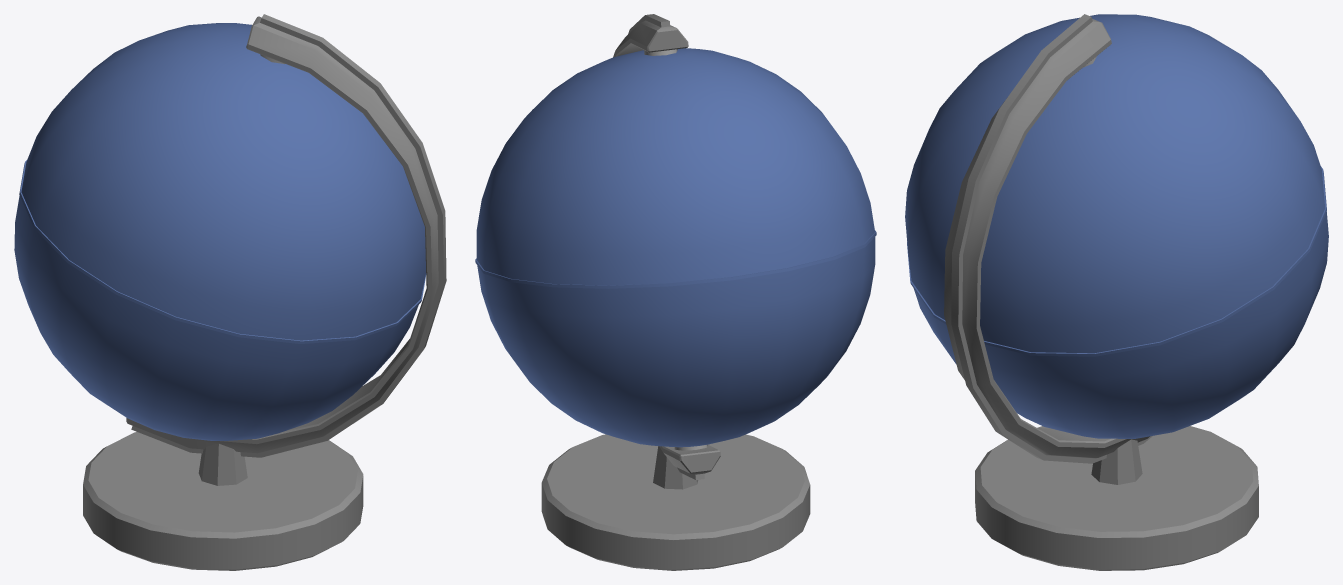
Rendered from geo_globe.fbx.
The picture shows the model from 3 angles, left to right: view 1: azimuth 30°, elevation 25°; view 2: azimuth 150°, elevation 25°; view 3: azimuth 270°, elevation 25°; orthographic projection. The views are drawn at different scales.
Parts seen in each view (by area): view 1: geo_globe; view 2: geo_globe; view 3: geo_globe.
Boxes of the visible parts, <box> form: geo_globe: <box>14,14,446,570</box>; geo_globe: <box>475,14,876,570</box>; geo_globe: <box>905,14,1328,570</box>.
Bounding box in the file's own units: 59.11 × 78.85 × 59.37.
